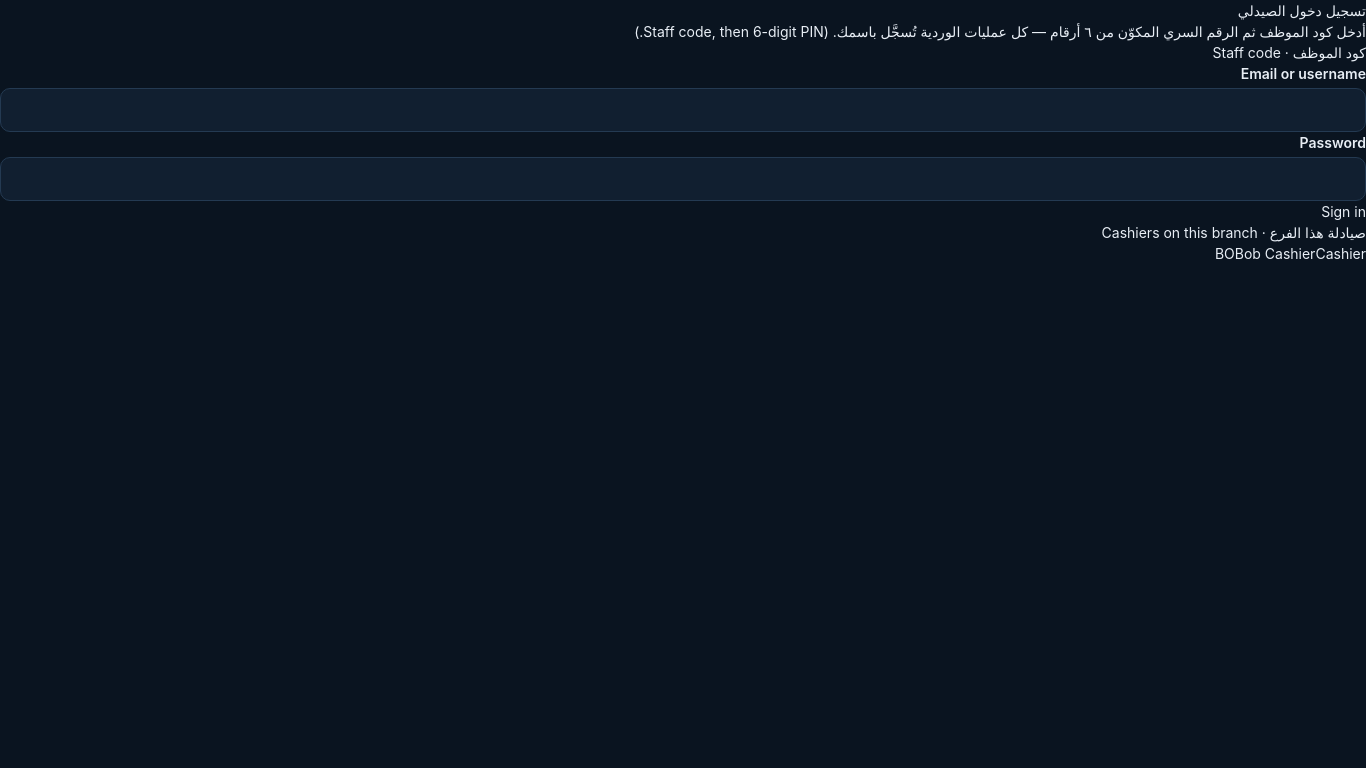
Test case: T057 — takeover cancel: prompt mounts › TakeoverPrompt renders after signIn returns takeover_required
Click the button with test id "roster-item-0" at (1290, 254), box [1215,243,1365,264]
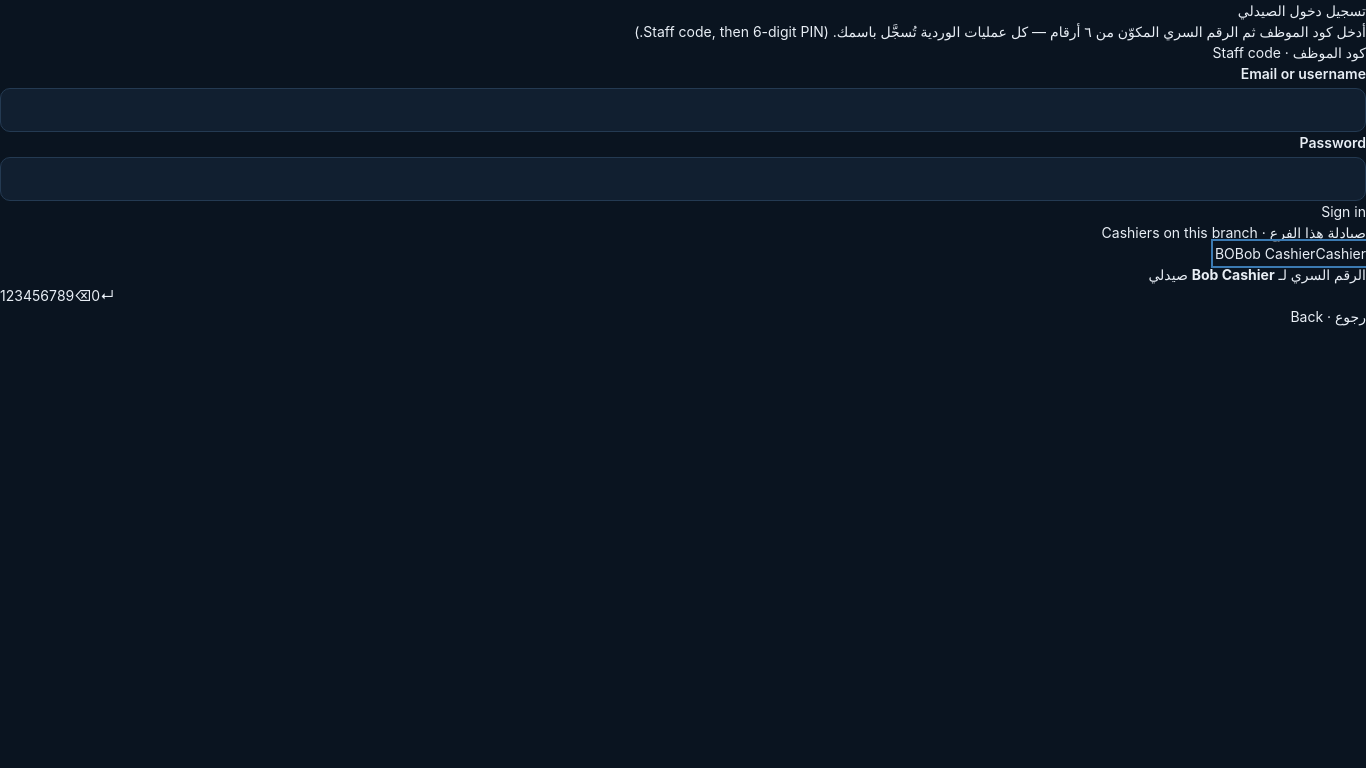
Click the button "1" at (3, 296), box [0,285,6,306]
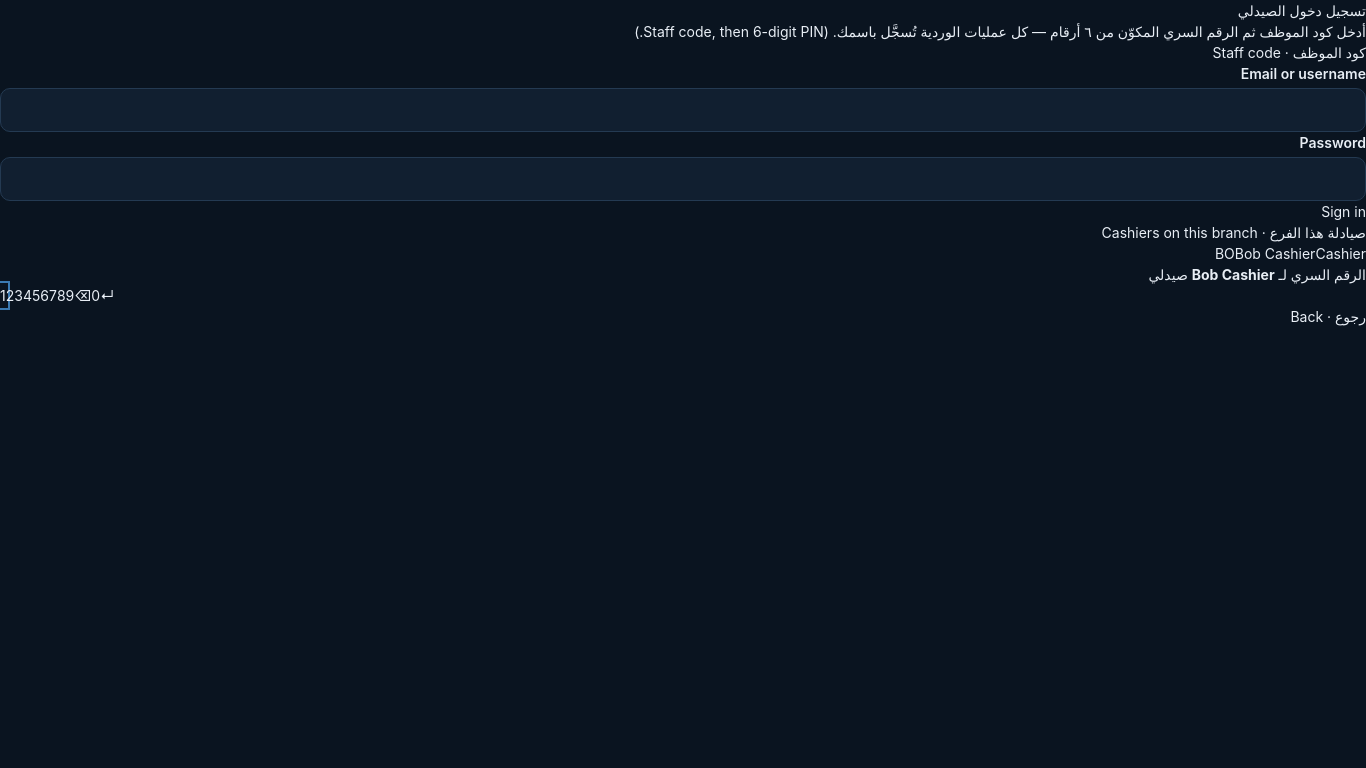
Click the button "2" at (10, 296), box [6,285,14,306]
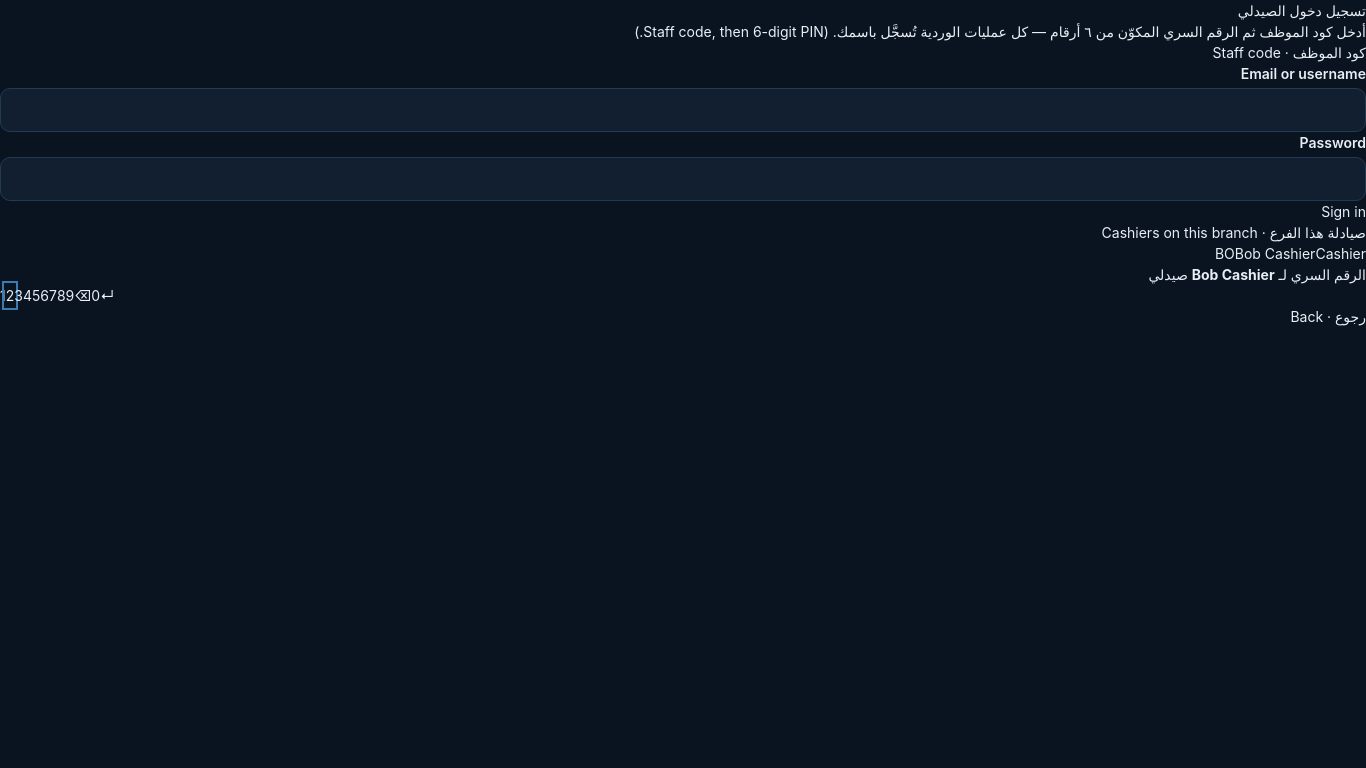
Click the button "3" at (19, 296), box [14,285,23,306]
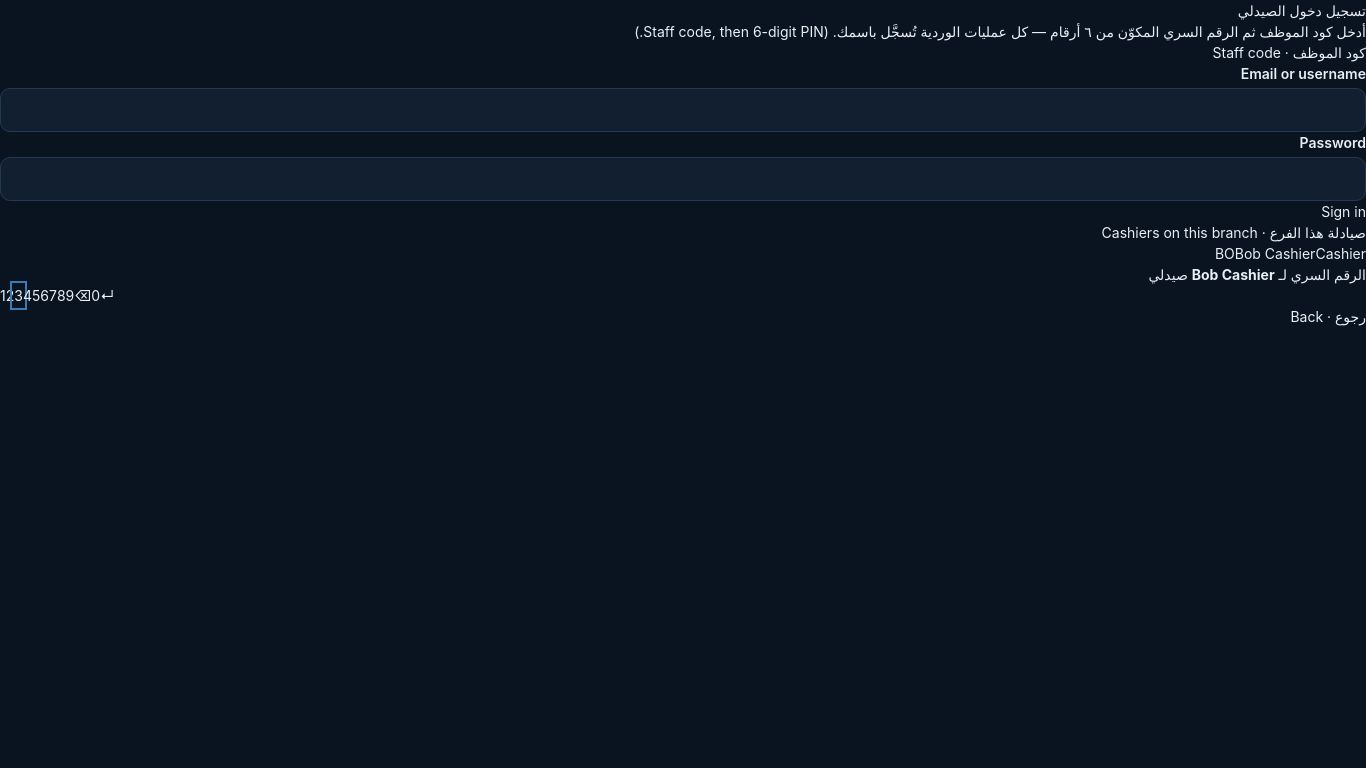
Click the button "4" at (27, 296), box [23,285,32,306]
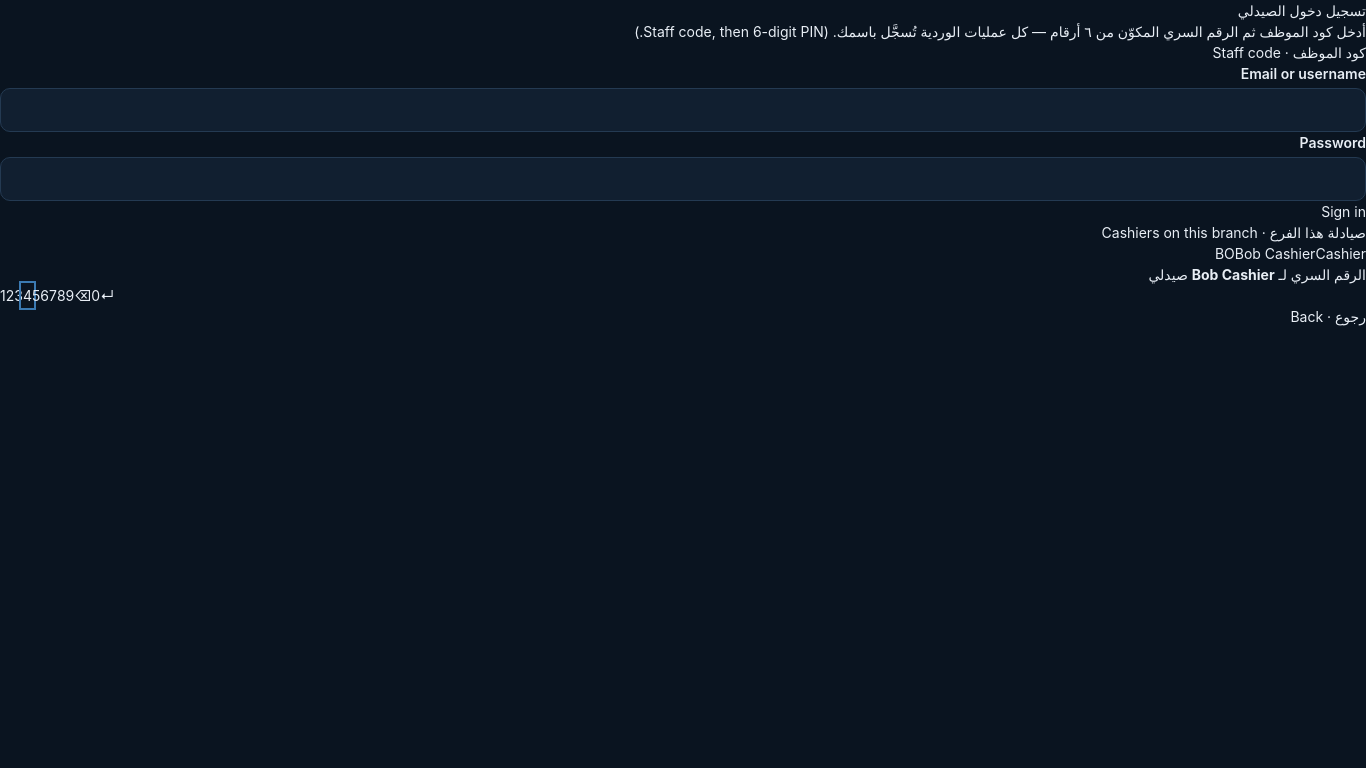
Click the button with test id "pin-pad-enter" at (107, 296), box [100,285,114,306]
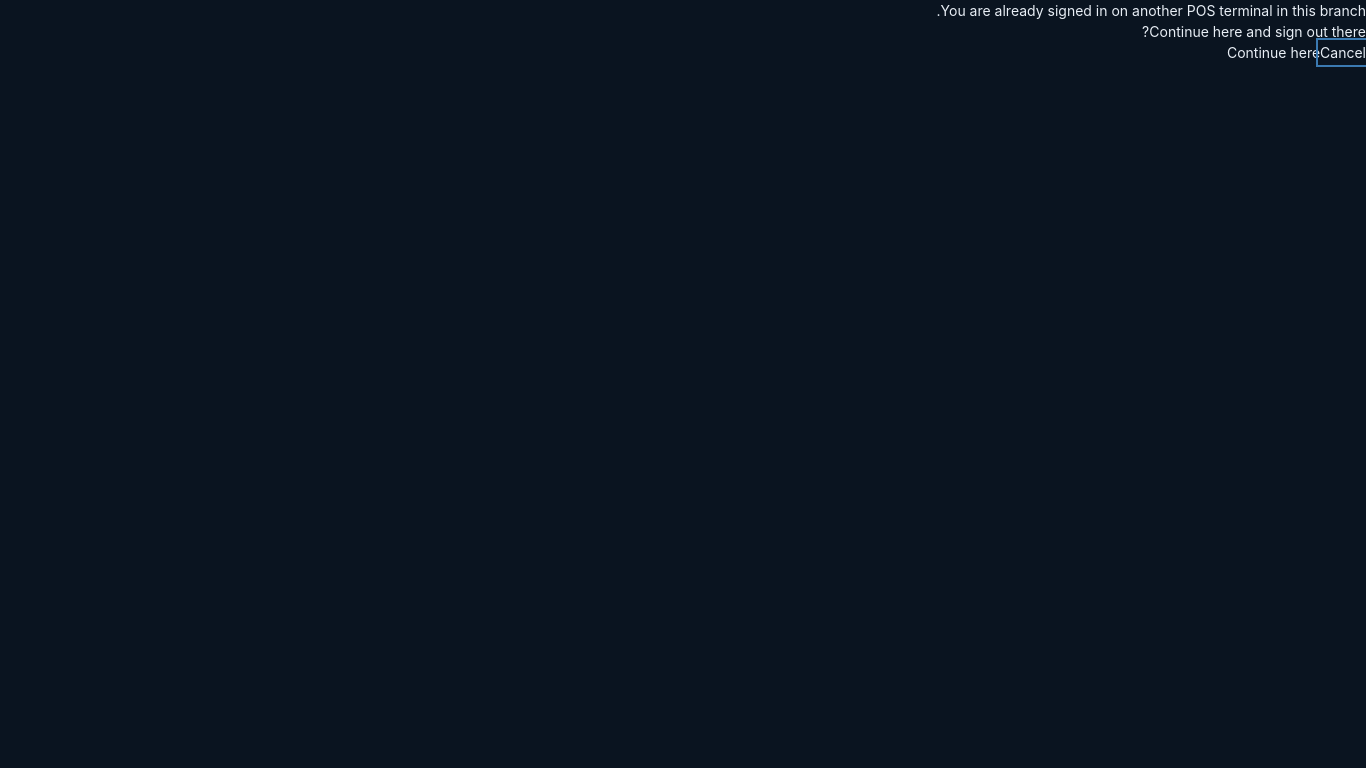
expect the dialog with test id "takeover-prompt" is shown: met, box [936,2,1365,63]
